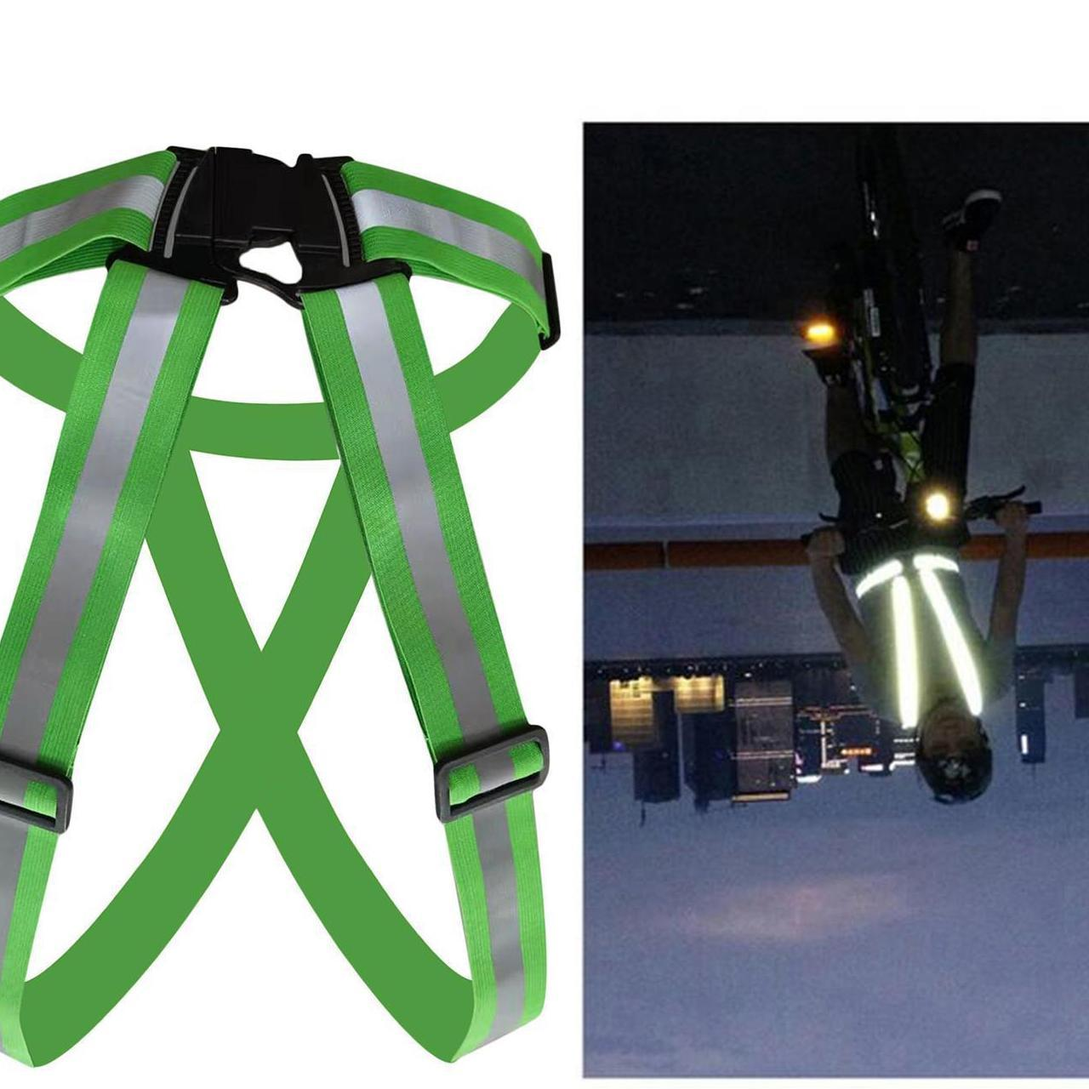Vest: (849, 552, 1000, 719)
